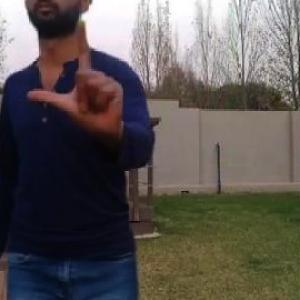land_hand: (28, 14, 129, 132)
